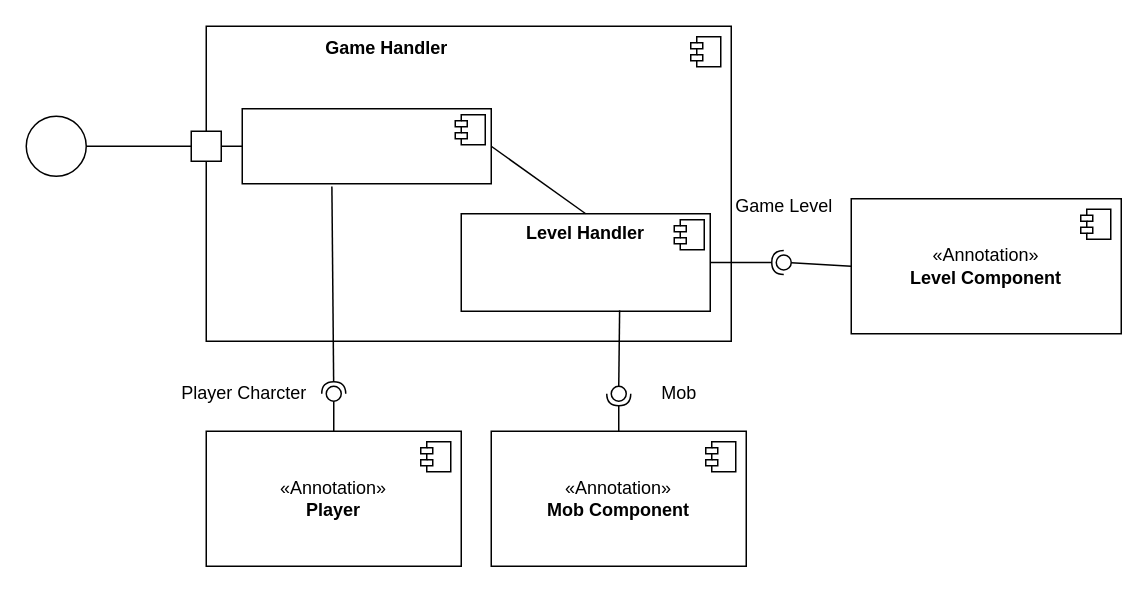
The diagram is 1148 pixels wide and 593 high, and some of its shapes have lost their labels. The centre of each missing label's shape, as x and y in pixels:
"Input handler" belongs at (366,145).
"Player" belongs at (55,145).
